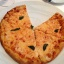olives: (9, 25, 23, 34), (26, 44, 38, 53), (42, 42, 51, 52), (17, 14, 26, 21), (53, 26, 60, 35), (29, 25, 36, 31)
pizza: (2, 7, 64, 62)
